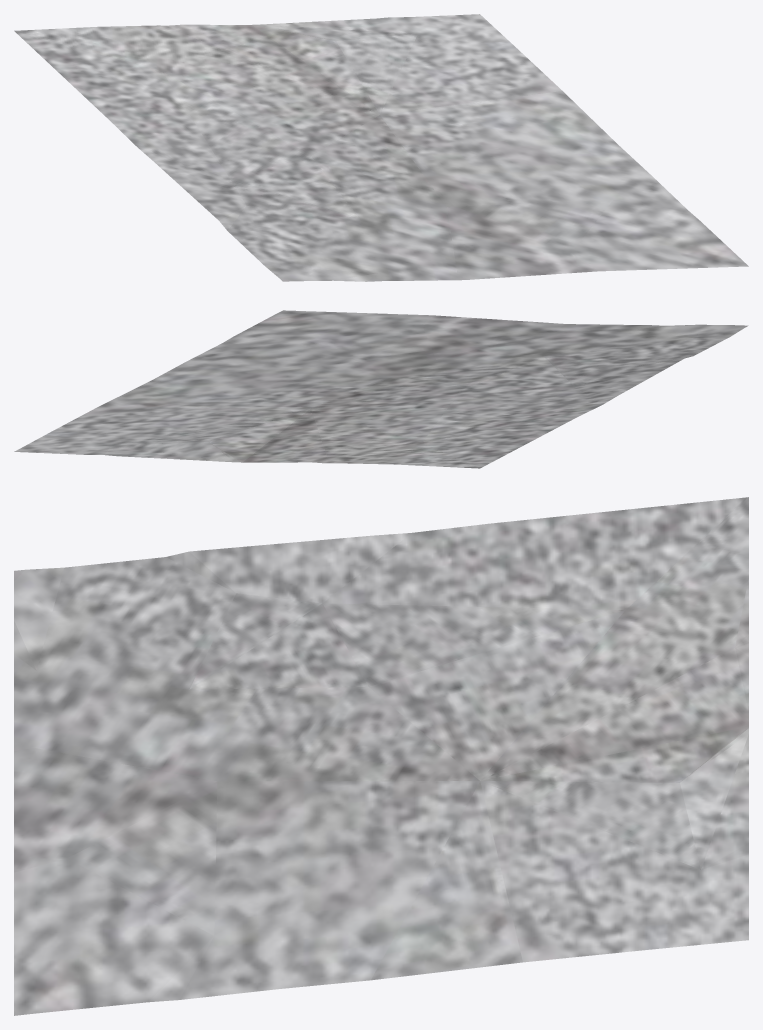
The picture shows the model from 3 angles, top to bottom: view 1: azimuth 30°, elevation 25°; view 2: azimuth 150°, elevation 25°; view 3: azimuth 270°, elevation 25°; orthographic projection. The views are drawn at different scales.
Size of the model in its own units: 0.8374 by 0.2618 by 0.8374.
3 materials, 3 textured.
